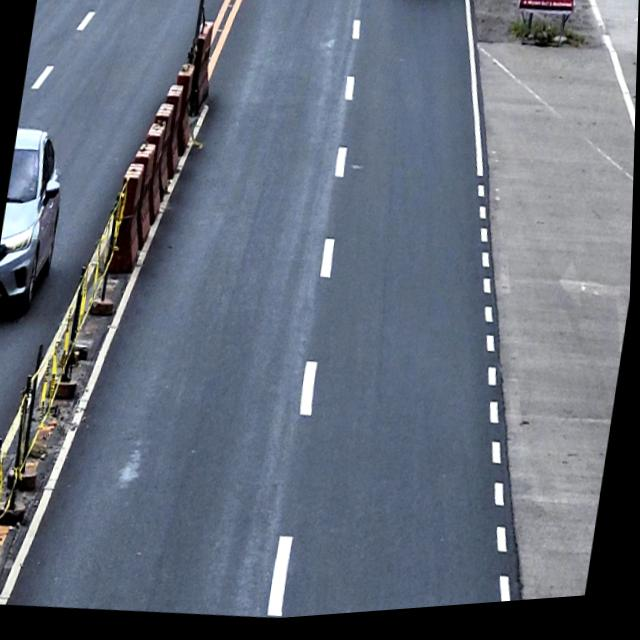Car: (0, 119, 76, 322)
